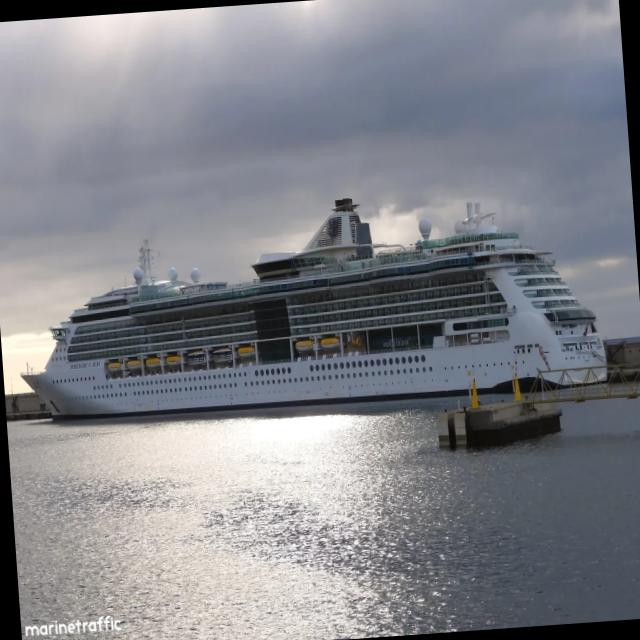Cruise: (21, 198, 605, 419)
